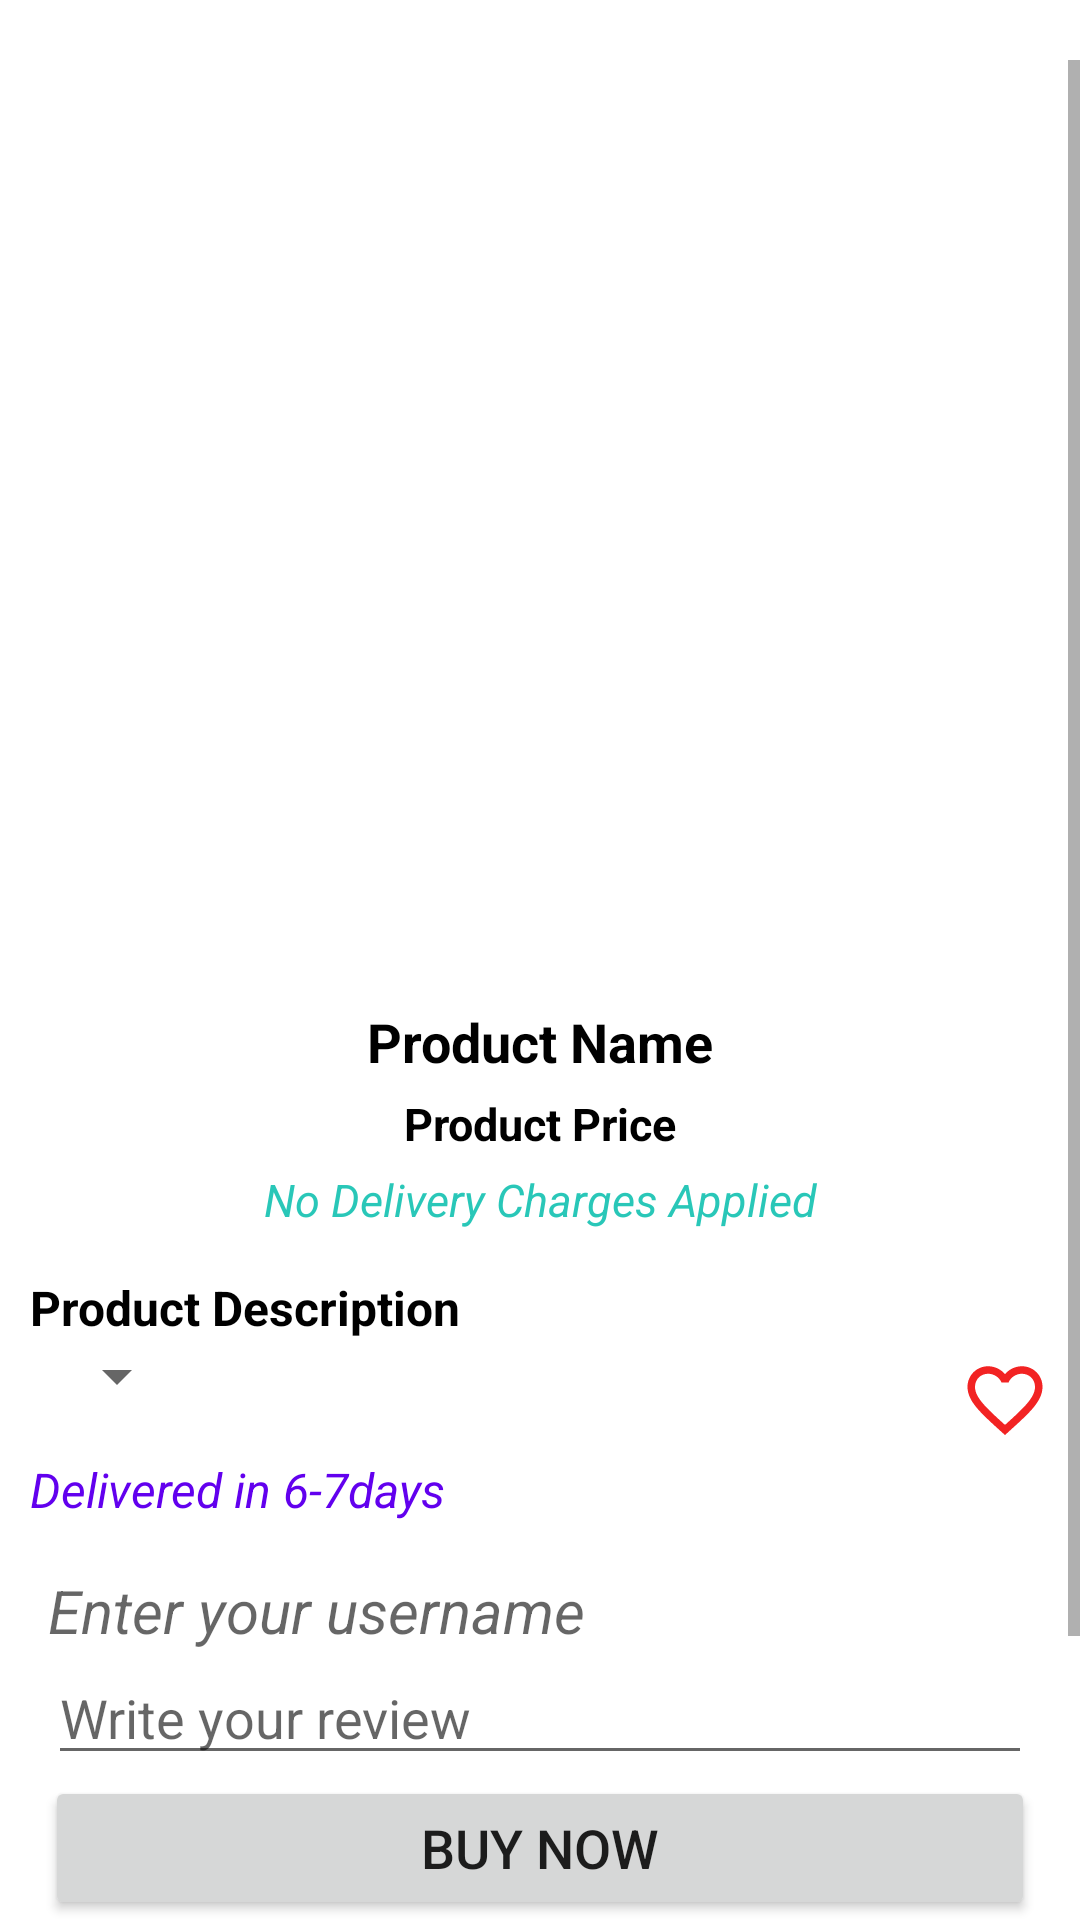

Screen size 1080×1920. Icon name, then its box in pixels as (x1, y1, x2, y2):
favorite border: (967, 1366, 1043, 1435)
